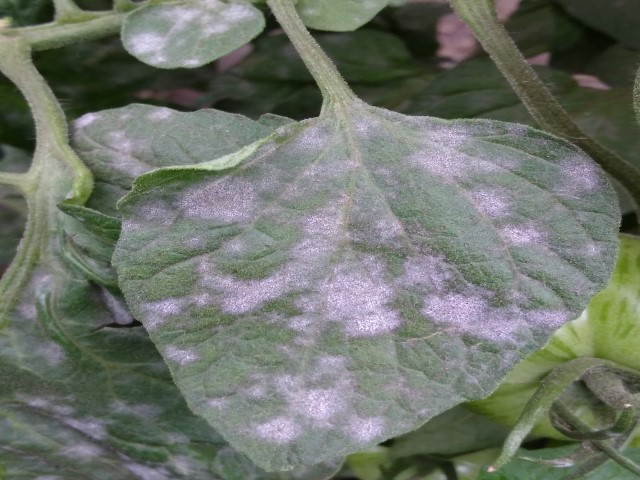oidio: (188, 196, 397, 332), (408, 256, 541, 335), (255, 353, 369, 442), (407, 135, 523, 180), (187, 179, 258, 227), (548, 147, 600, 201), (136, 290, 213, 325), (107, 131, 153, 177), (465, 180, 515, 219), (499, 221, 555, 252), (163, 336, 198, 370), (38, 341, 70, 368)
